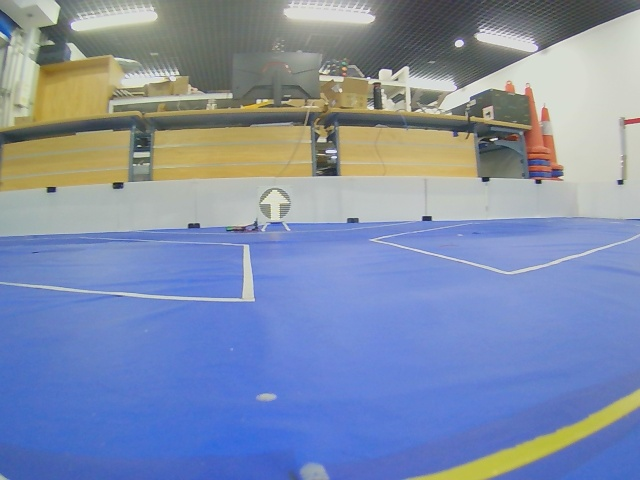straight_yellow: (261, 188, 291, 219)
